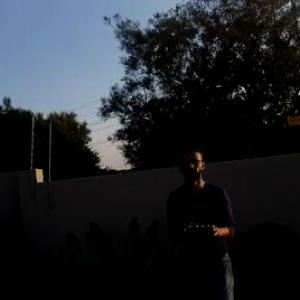follow: (161, 139, 243, 299)
